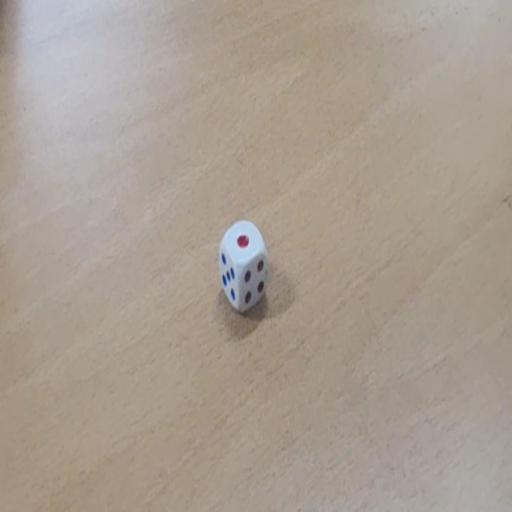dice_1: (216, 218, 270, 316)
